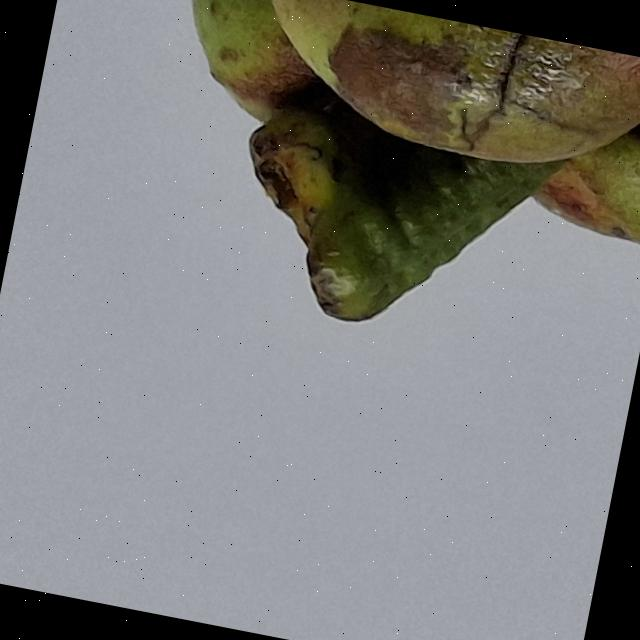mangosteen: (0, 0, 640, 415)
